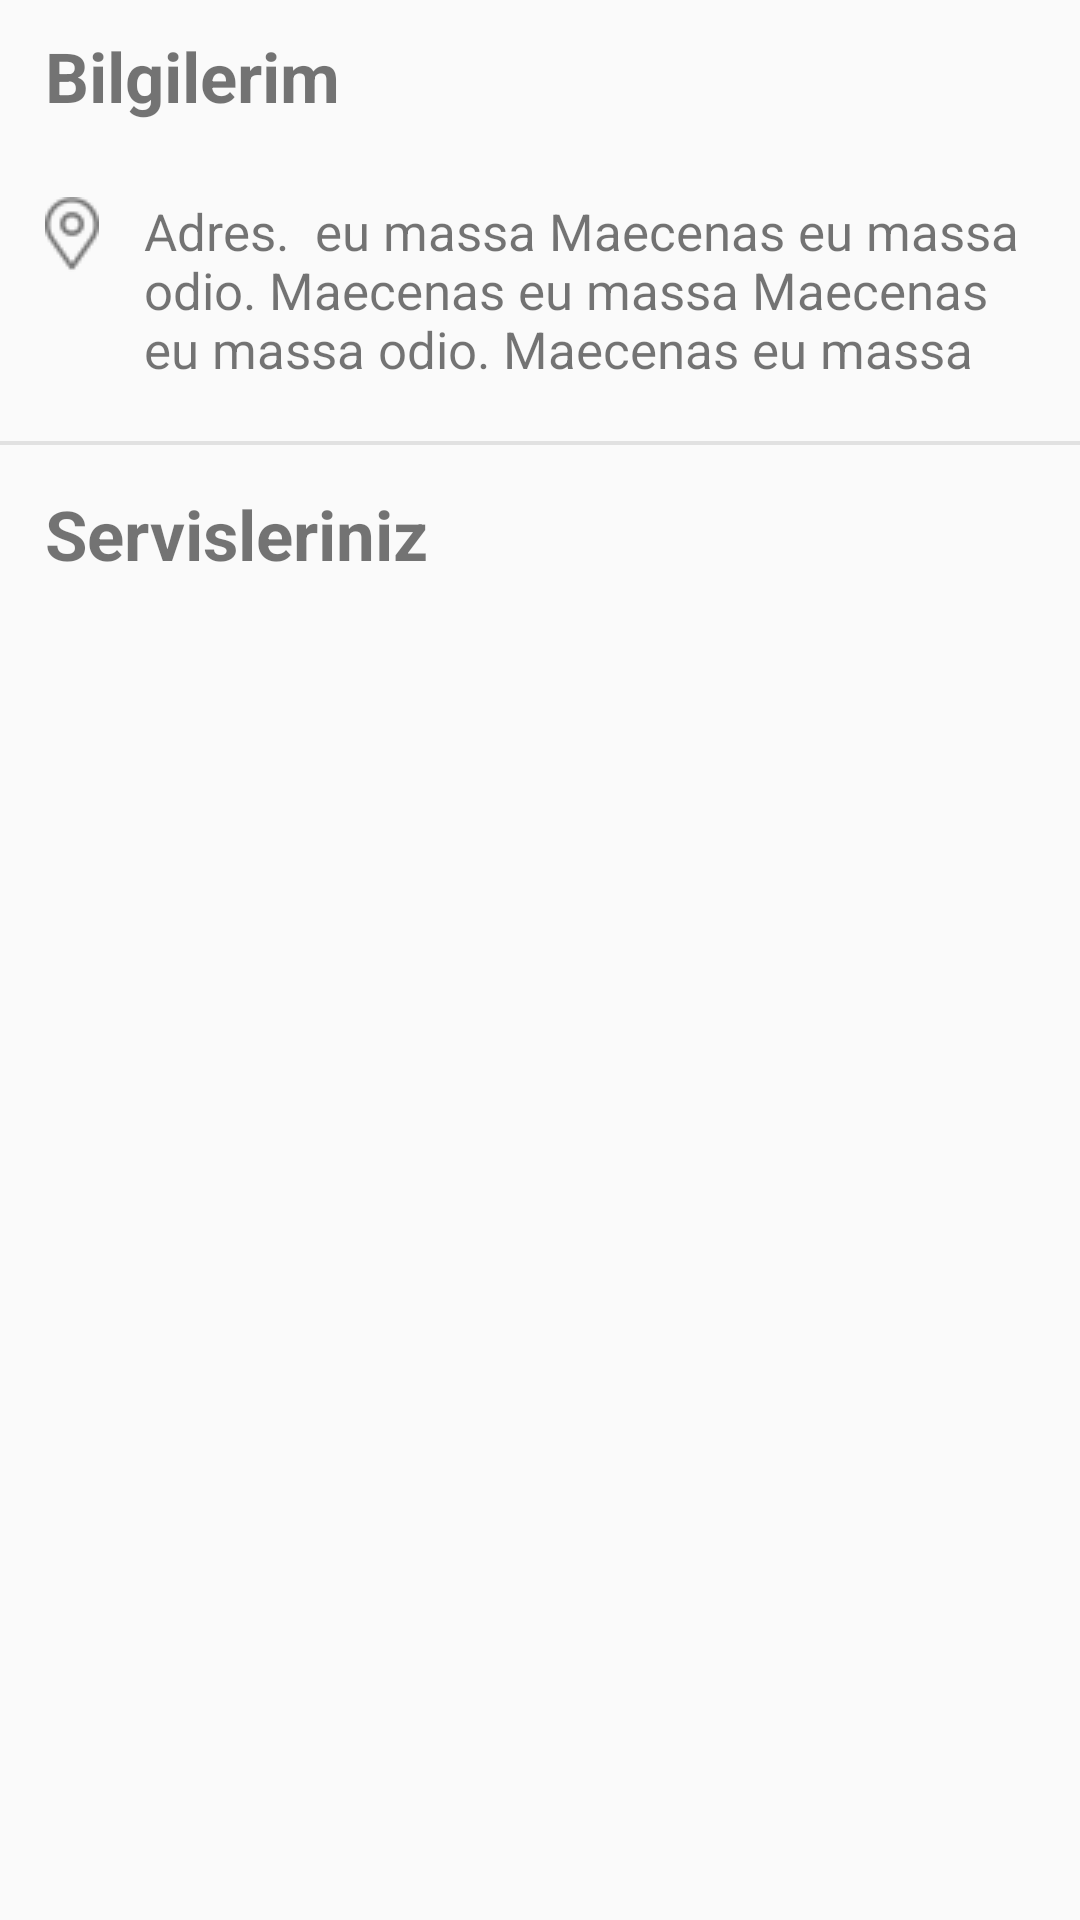

Icon bounding boxes for this 1080px x 1920px phone screenshot, format (x1, y1, x2, y2):
yer: (45, 197, 99, 270)
